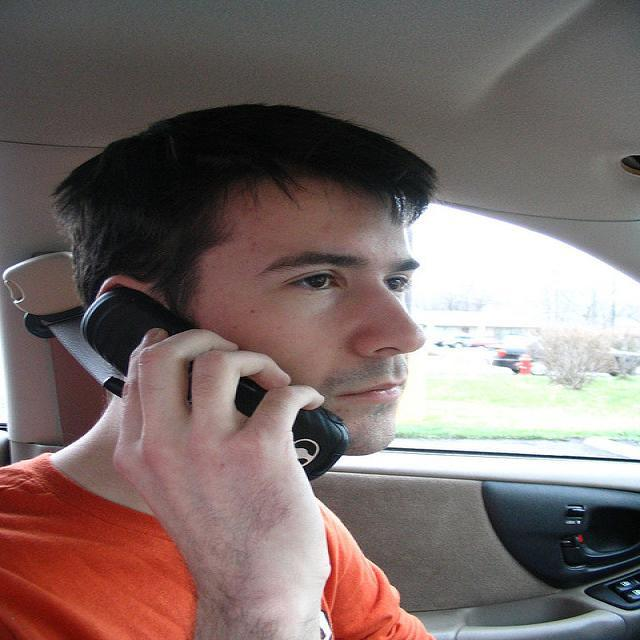fire_hydrant: (514, 353, 534, 376)
